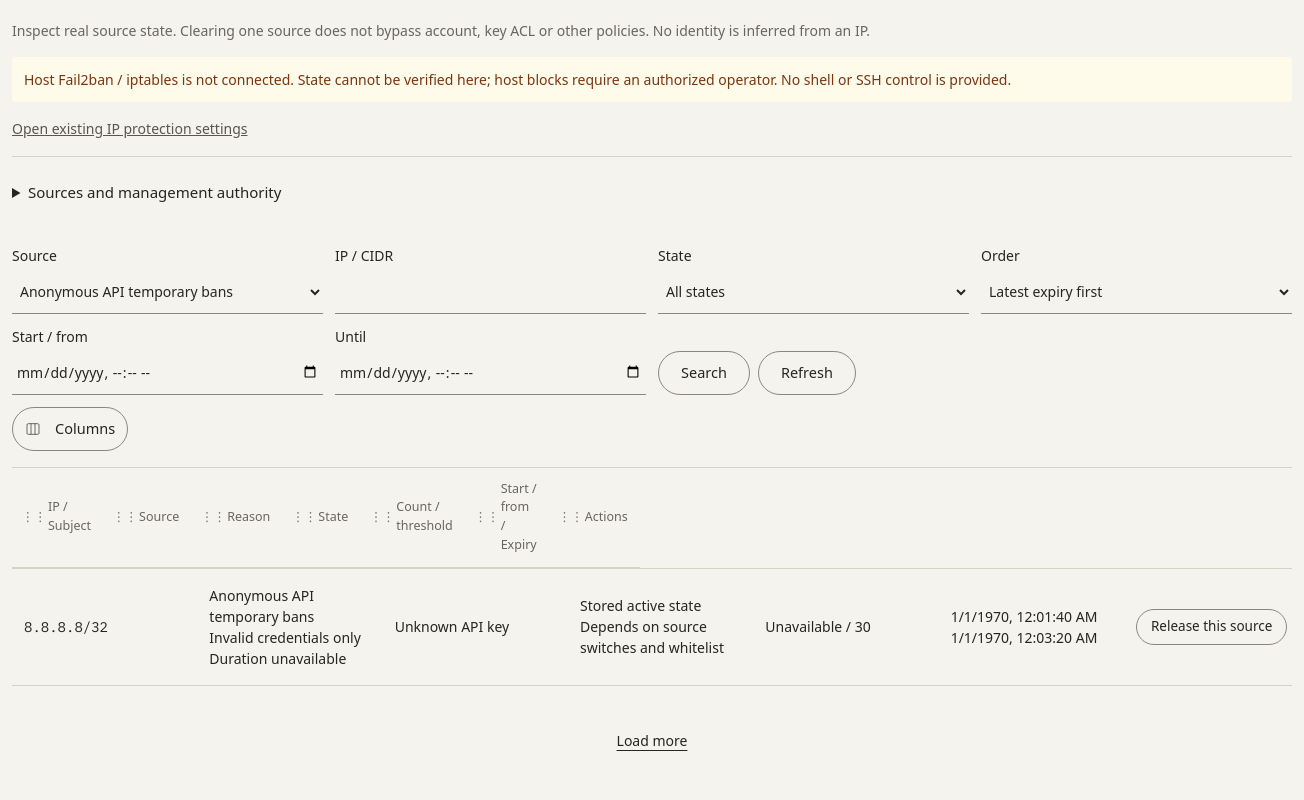
Scenario: IP audit › requires per-source confirmation, then displays readback and remaining restrictions
Click the button with test id "release-source" at (1212, 626), box [1136,608,1287,644]
(page scrolled)
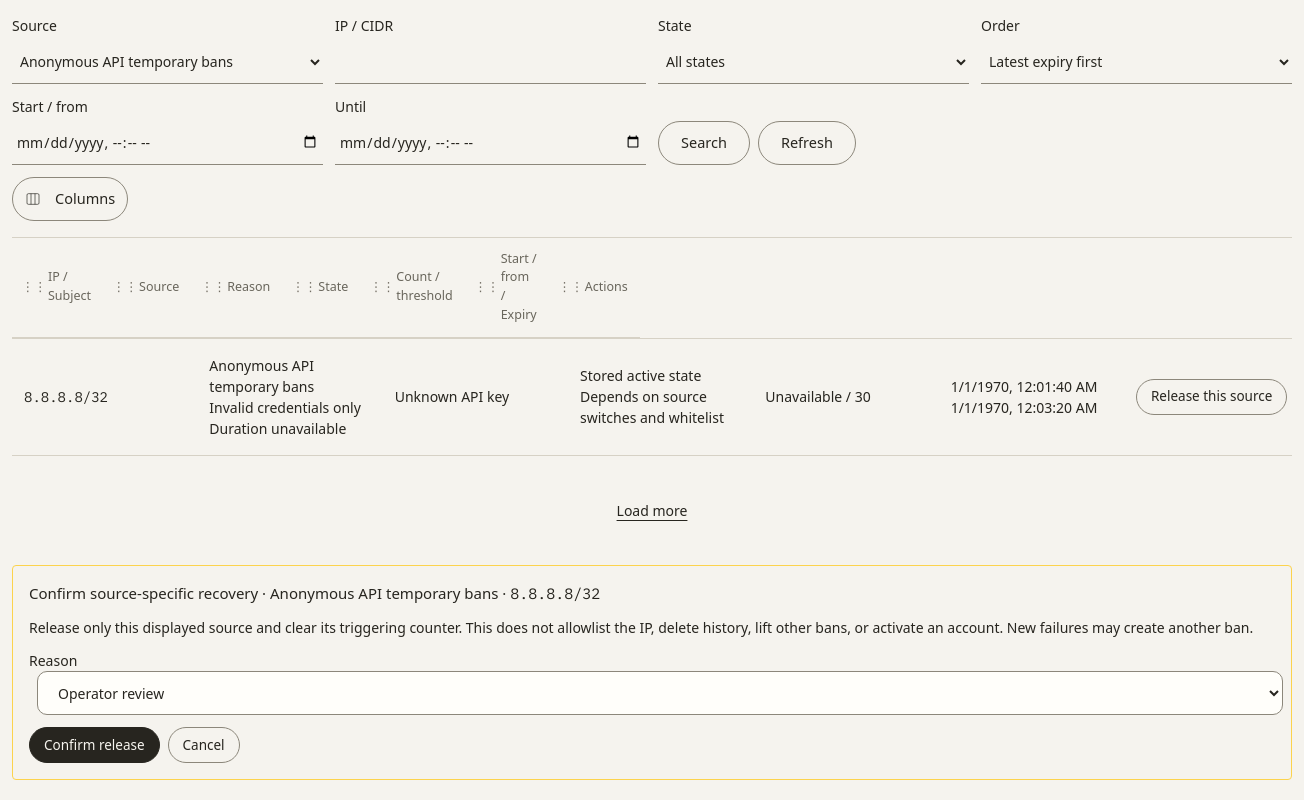
Expected: the element with test id "release-dialog" shows "8.8.8.8/32", [510,584,600,603]
Click the button with test id "release-confirm" at (94, 745), box [29,727,160,763]
(page scrolled)
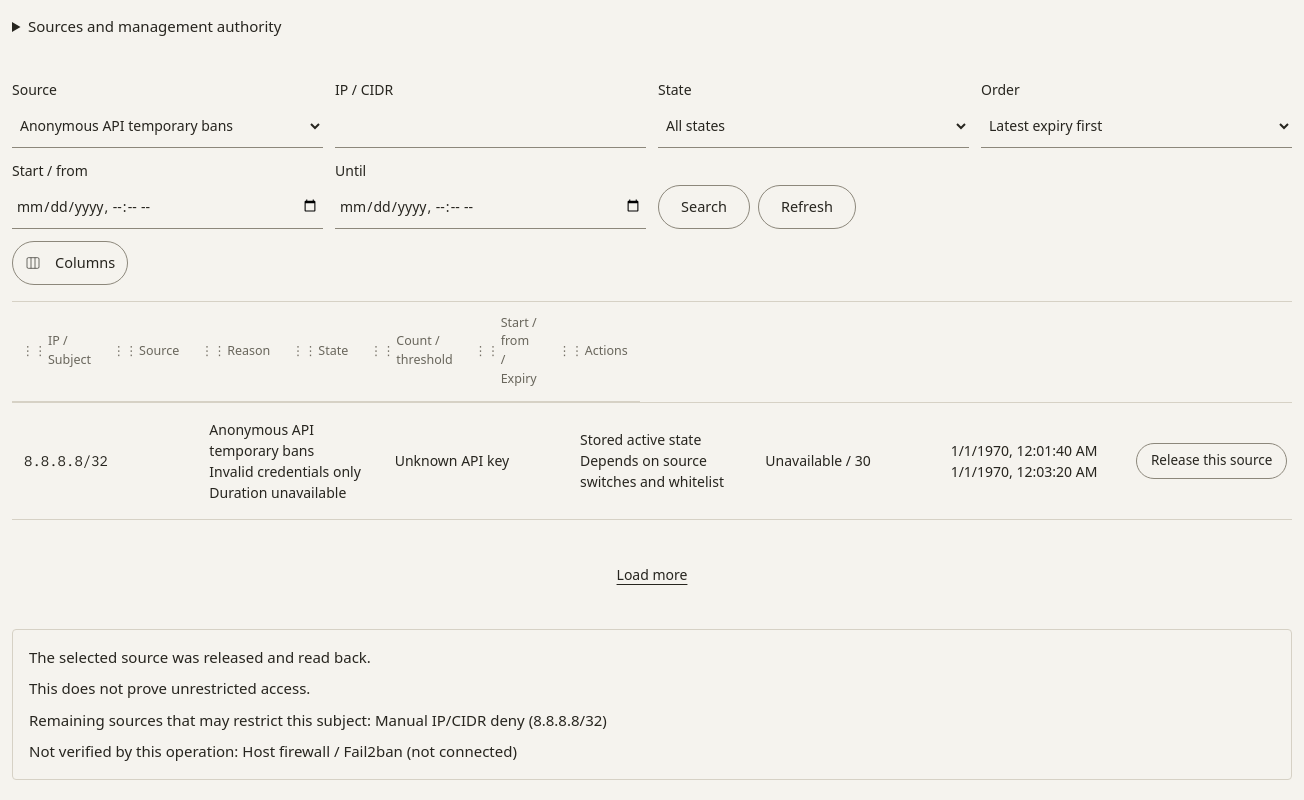
Expected: the message with test id "release-outcome" shows "The selected source was released and read back.", [29,647,371,667]
Expected: the message with test id "release-outcome" shows "This does not prove unrestricted access.", [29,678,310,698]
Expected: the message with test id "release-outcome" shows "Manual IP/CIDR deny", [29,710,607,730]
